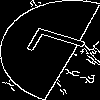L: (25, 25, 100, 68)
